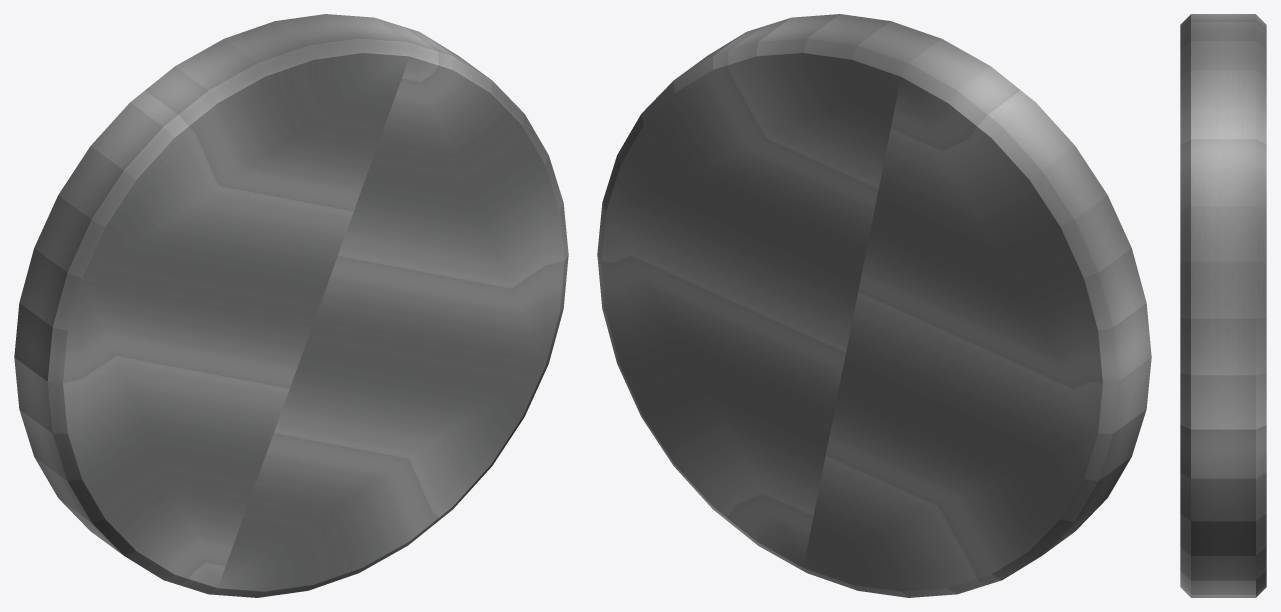
The model's file is decoupler.glb.
3 views of the same model, side by side, from view 1: azimuth 30°, elevation 25°; view 2: azimuth 150°, elevation 25°; view 3: azimuth 270°, elevation 25° (orthographic). The views are drawn at different scales.
Visible parts, largest first — view 1: Cylinder; view 2: Cylinder; view 3: Cylinder.
Boxes of the visible parts, <box> form: Cylinder: <box>14,14,568,597</box>; Cylinder: <box>597,14,1151,597</box>; Cylinder: <box>1180,14,1266,597</box>.
Bounding box in the file's own units: 0.54 × 0.54 × 0.08.
1 material, 1 textured.
